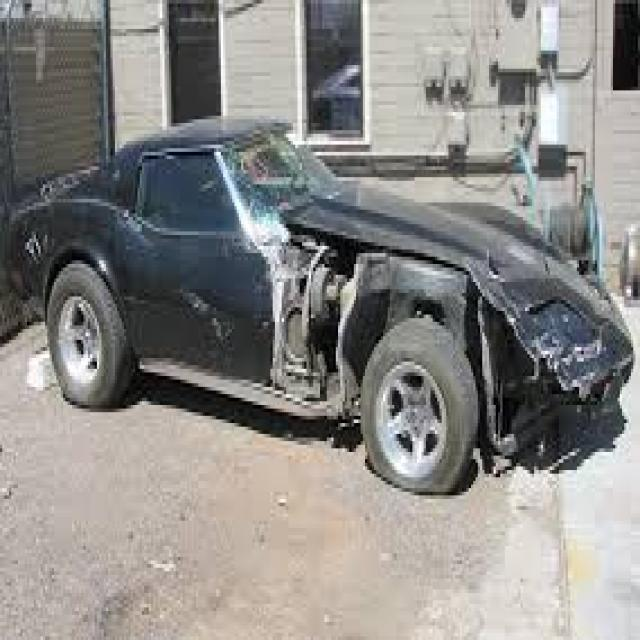moderate: (253, 148, 640, 525)
